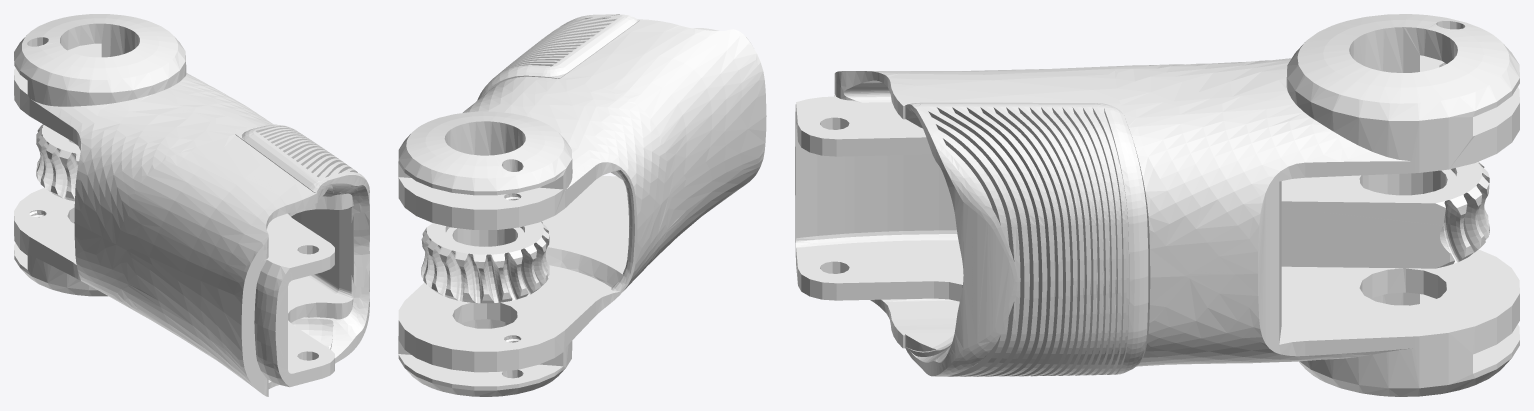
The model's file is lh_thumb_proximal_vis.obj.
The picture shows the model from 3 angles, left to right: view 1: azimuth 30°, elevation 25°; view 2: azimuth 150°, elevation 25°; view 3: azimuth 270°, elevation 25°; orthographic projection. The views are drawn at different scales.
Visible parts, largest first — view 1: lh_thumb_proximal; view 2: lh_thumb_proximal; view 3: lh_thumb_proximal.
Boxes of the visible parts, <box> form: lh_thumb_proximal: <box>14,14,369,396</box>; lh_thumb_proximal: <box>398,14,766,396</box>; lh_thumb_proximal: <box>795,14,1519,396</box>.
Bounding box in the file's own units: 0.0218 × 0.0233 × 0.0493.
Materials: 1 (1 with a texture image).
